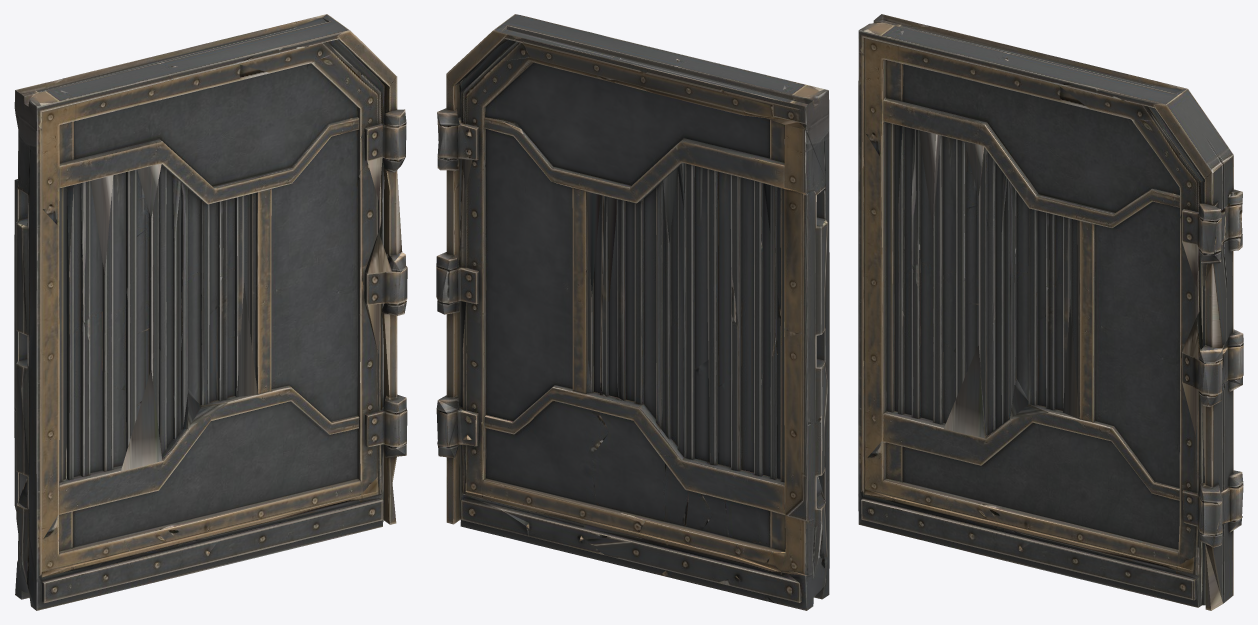
Rendered from imperial_city_gate__gate_right.glb.
The picture shows the model from 3 angles, left to right: view 1: azimuth 30°, elevation 25°; view 2: azimuth 150°, elevation 25°; view 3: azimuth 330°, elevation 25°; orthographic projection.
Visible parts, largest first — view 1: mesh_node; view 2: mesh_node; view 3: mesh_node.
Boxes of the visible parts, <box> form: mesh_node: <box>14,14,407,610</box>; mesh_node: <box>436,14,829,610</box>; mesh_node: <box>858,14,1243,610</box>.
Bounding box in the file's own units: 3.55 × 4.55 × 0.5486.
Materials: 1 (1 with a texture image).
